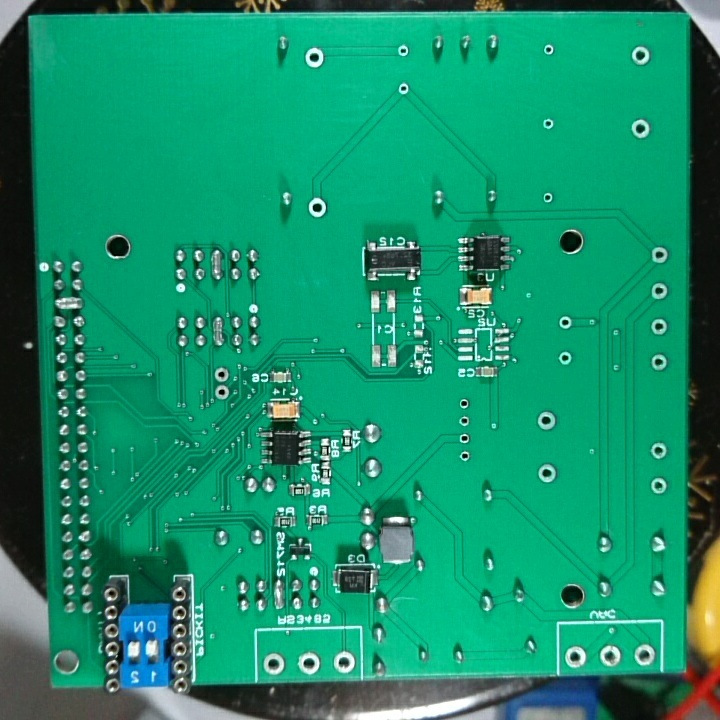F: (301, 43, 329, 75), (561, 644, 590, 671), (261, 651, 290, 678), (296, 652, 325, 678), (598, 643, 626, 669), (306, 195, 332, 222), (331, 650, 359, 675), (629, 43, 654, 69), (533, 409, 559, 434), (632, 642, 657, 668), (647, 315, 673, 339), (535, 461, 559, 486), (630, 117, 653, 143), (648, 243, 671, 269), (648, 439, 669, 463), (649, 352, 670, 375), (649, 476, 669, 498), (541, 40, 558, 64), (394, 79, 414, 99), (211, 383, 231, 403), (394, 43, 413, 64), (555, 314, 576, 333), (555, 350, 576, 369), (651, 280, 668, 303), (211, 364, 231, 383), (457, 395, 475, 415), (457, 409, 473, 431), (540, 116, 556, 135), (457, 427, 473, 446), (458, 447, 472, 467), (541, 191, 554, 207)
P: (52, 294, 86, 314), (209, 244, 225, 282), (210, 314, 227, 347), (271, 580, 284, 613)
